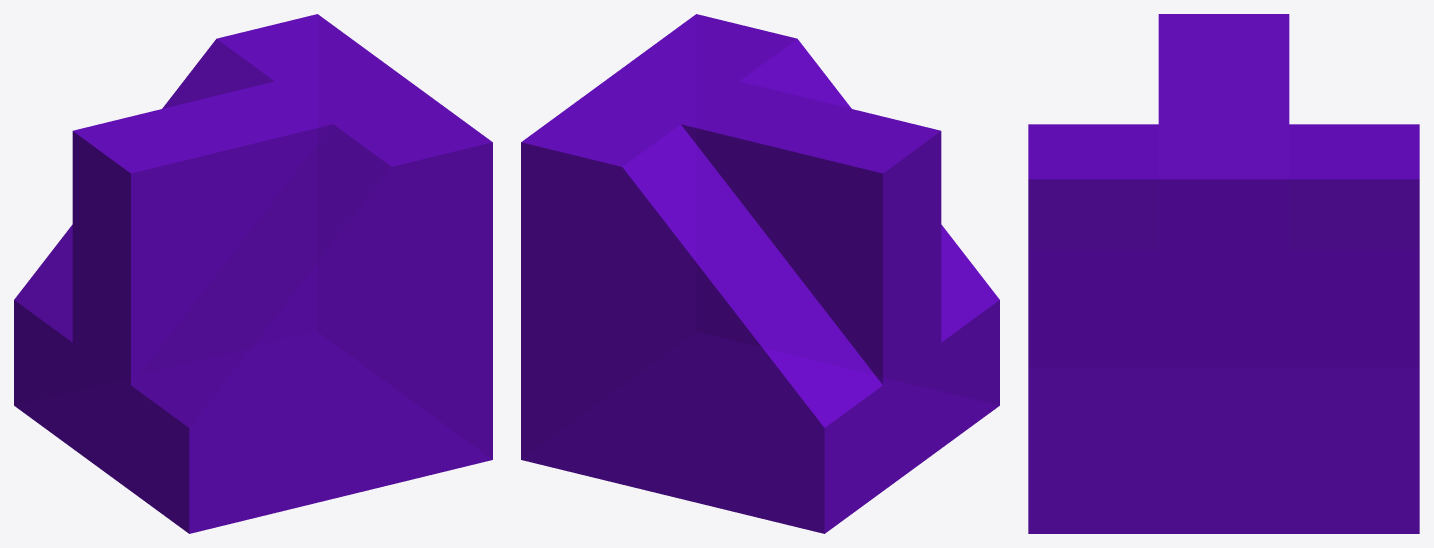
The picture shows the model from 3 angles, left to right: view 1: azimuth 30°, elevation 25°; view 2: azimuth 150°, elevation 25°; view 3: azimuth 270°, elevation 25°; orthographic projection. The views are drawn at different scales.
Visible parts, largest first — view 1: SketchUp; view 2: SketchUp; view 3: SketchUp.
Boxes of the visible parts, x1,y1,x2,y2 form: SketchUp: (14, 14, 492, 533); SketchUp: (521, 14, 999, 533); SketchUp: (1028, 14, 1419, 533).
Size of the model in its own units: 59.06 by 59.06 by 59.06.
